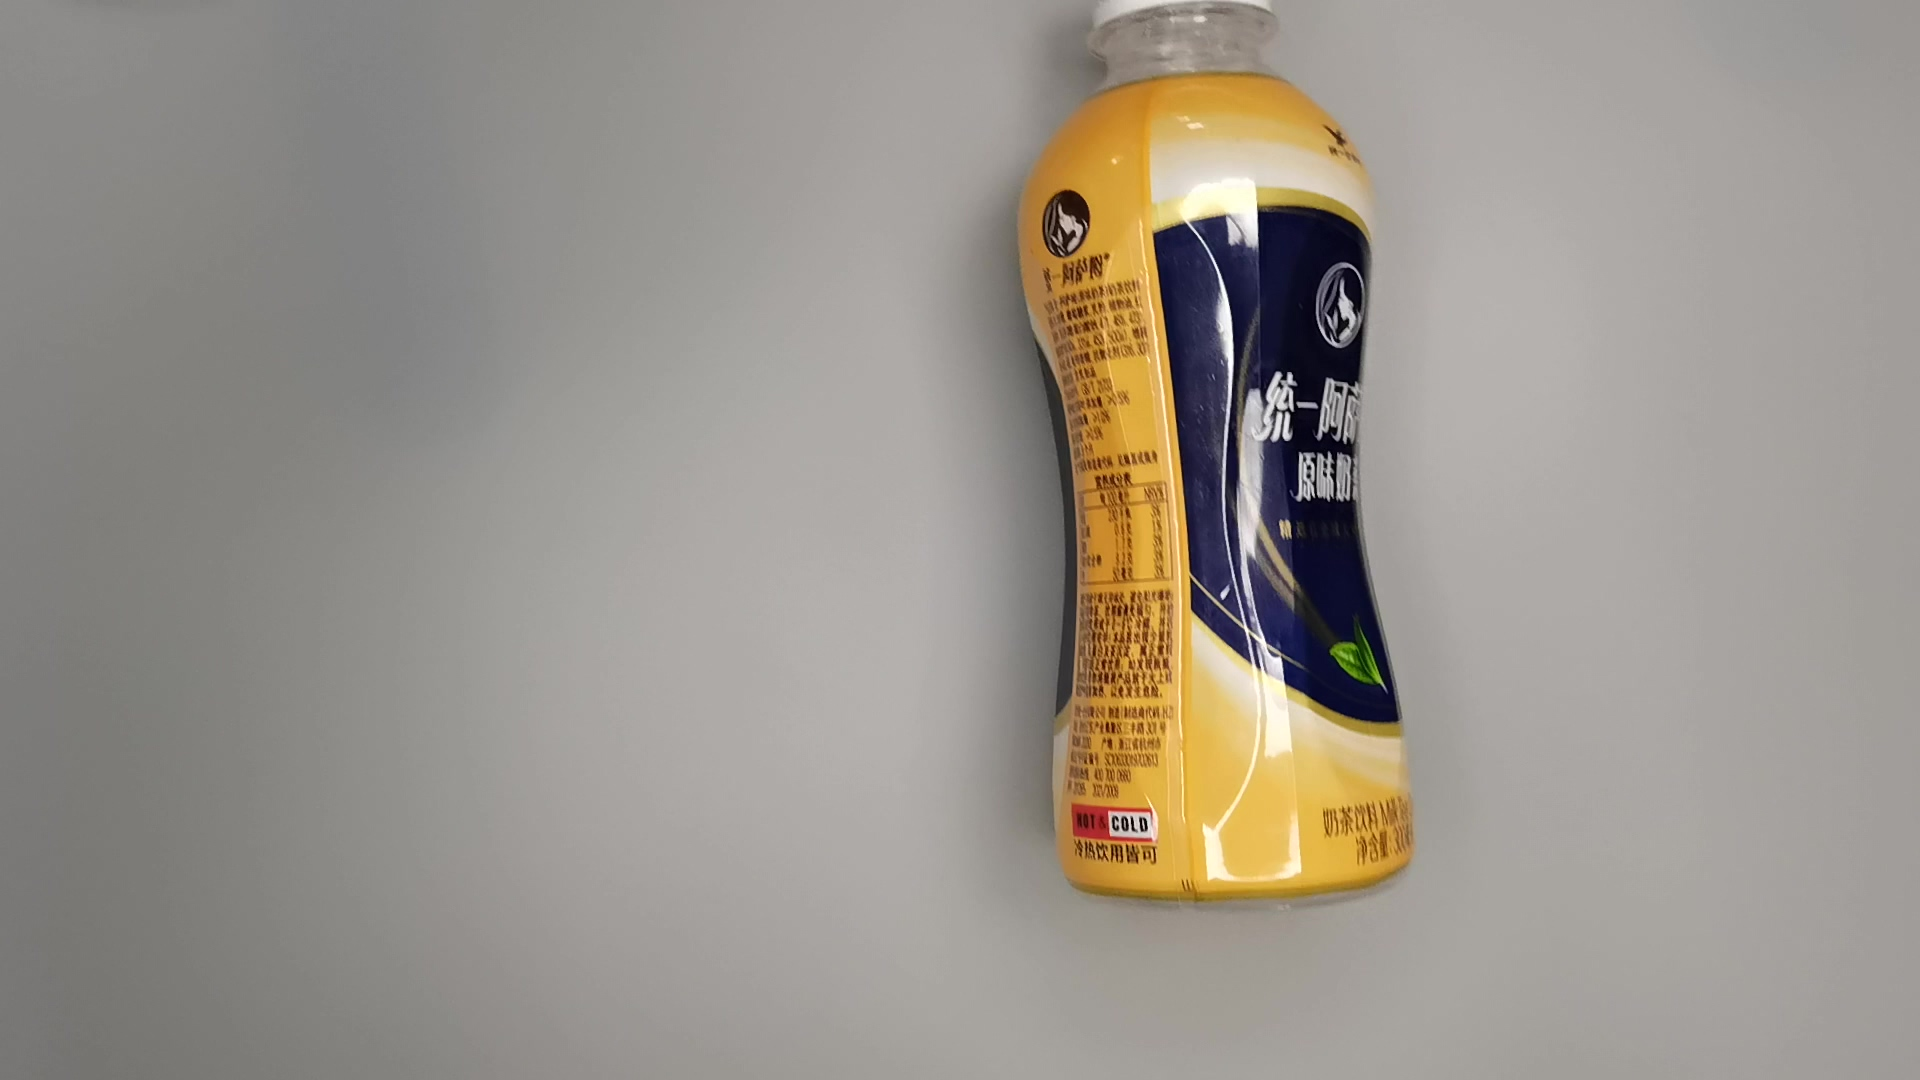bottle: (1004, 1, 1422, 922)
